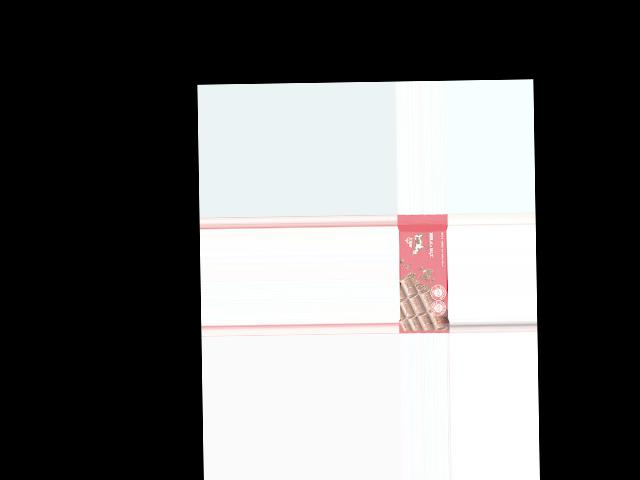chocolate: (397, 213, 449, 332)
